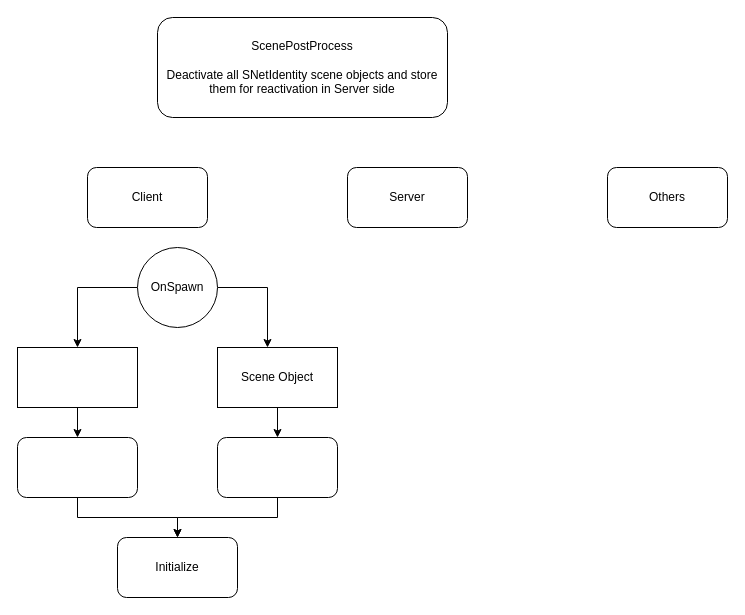
Image size: 745x615. Some labels were removed from this diagram. The box of each missing label's shape, as (x1, y1, x2, y2) in pixels:
Active GameObject: (216, 436, 338, 498)
Instantiate: (16, 436, 138, 498)
Prefab Object: (16, 346, 138, 408)
